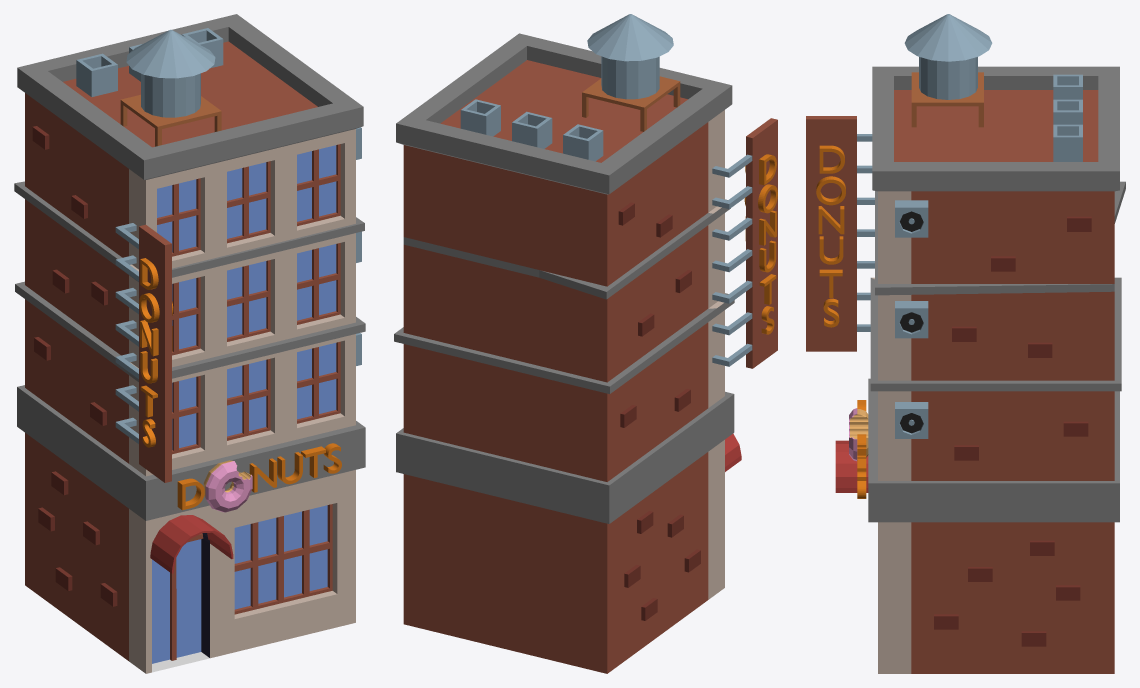
Rendered from Donut_Building_01.fbx.
3 views of the same model, side by side, from view 1: azimuth 30°, elevation 25°; view 2: azimuth 150°, elevation 25°; view 3: azimuth 270°, elevation 25° (orthographic). The views are drawn at different scales.
Visible parts, largest first — view 1: Building, WaterTank, SignBoard, VertDonuts2, SignBars, topVents, Donuts, Awning, SideVent; view 2: Building, WaterTank, SignBoard, topVents, SignBars, VertDonuts2; view 3: Building, SignBoard, WaterTank, SideVent, topVents, VertDonuts, Awning, SignBars, Donuts.
Boxes of the visible parts, <box> form: Building: <box>14,14,365,673</box>; WaterTank: <box>120,29,221,146</box>; SignBoard: <box>139,224,171,482</box>; VertDonuts2: <box>139,258,159,447</box>; SignBars: <box>115,223,138,443</box>; topVents: <box>76,28,223,96</box>; Donuts: <box>177,443,341,510</box>; Awning: <box>150,515,233,573</box>; SideVent: <box>356,127,361,365</box>; Building: <box>394,33,734,673</box>; WaterTank: <box>582,14,680,131</box>; SignBoard: <box>746,118,777,368</box>; topVents: <box>460,99,603,161</box>; SignBars: <box>712,154,752,366</box>; VertDonuts2: <box>758,154,777,334</box>; Building: <box>849,66,1125,673</box>; SignBoard: <box>806,116,856,351</box>; WaterTank: <box>904,14,992,127</box>; SideVent: <box>895,200,928,438</box>; topVents: <box>1053,74,1082,161</box>; VertDonuts: <box>816,145,845,327</box>; Awning: <box>835,440,868,492</box>; SignBars: <box>857,134,874,331</box>; Donuts: <box>857,400,866,498</box>.
Size of the model in its own units: 946 by 2194 by 1081.
